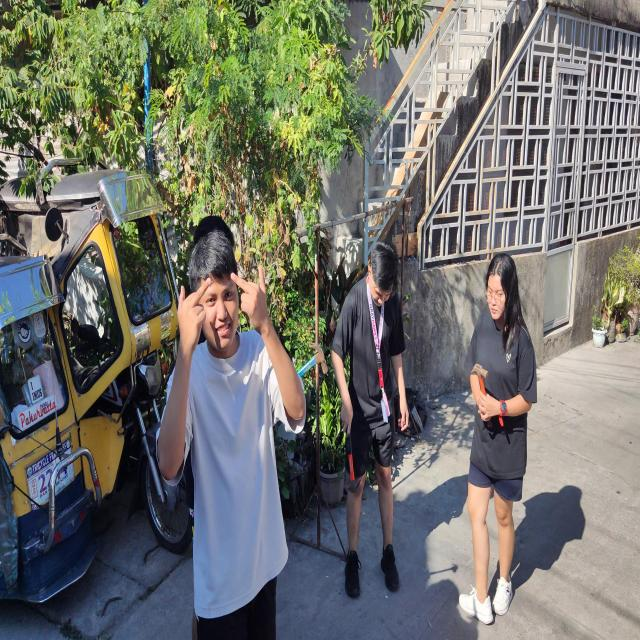hammer: (471, 364, 493, 428), (297, 342, 328, 378), (346, 426, 362, 494)
